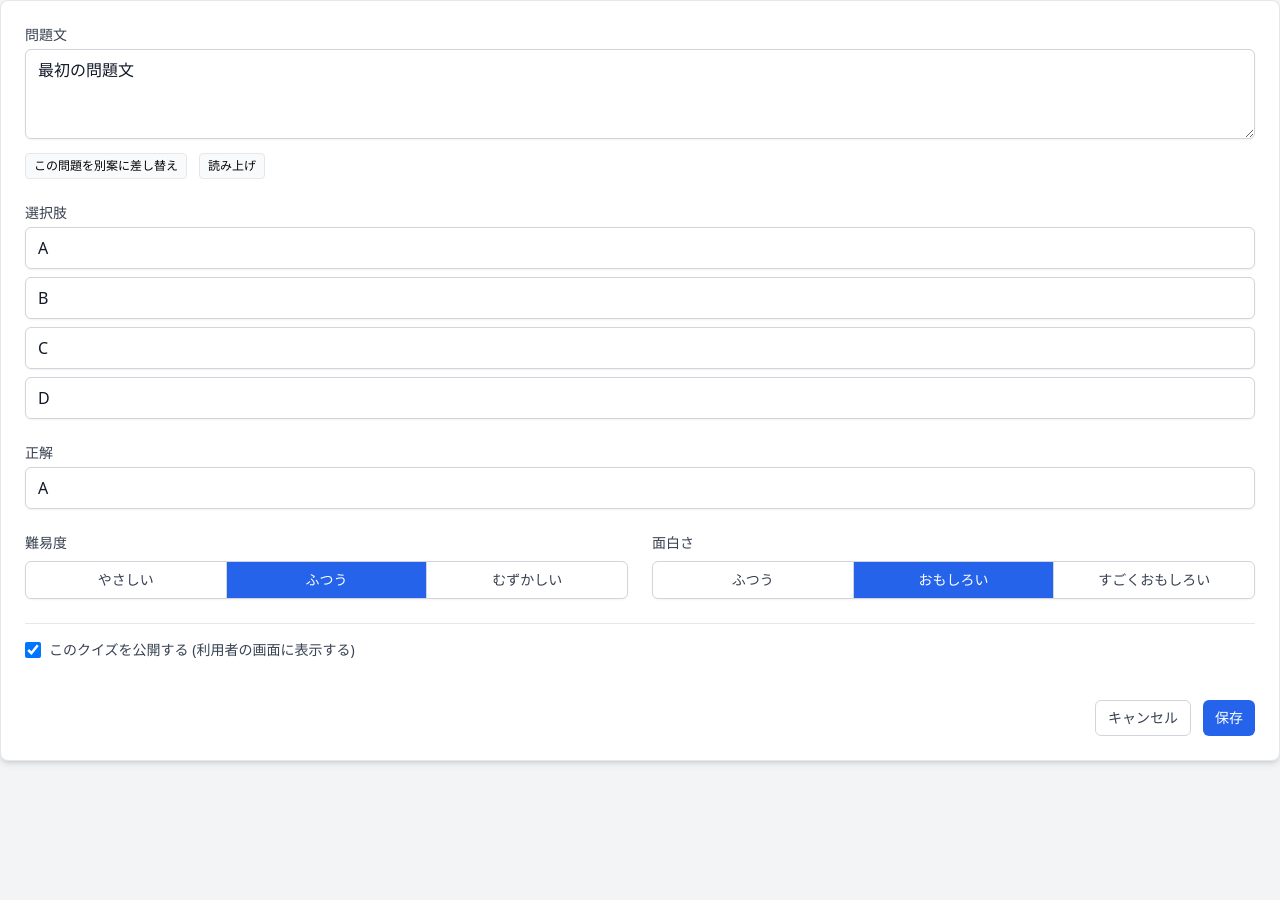
it: QuizForm › regenerates question and can restore original
Click the button "この問題を別案に差し替え". click: (106, 166)
box: [25,153,187,179]
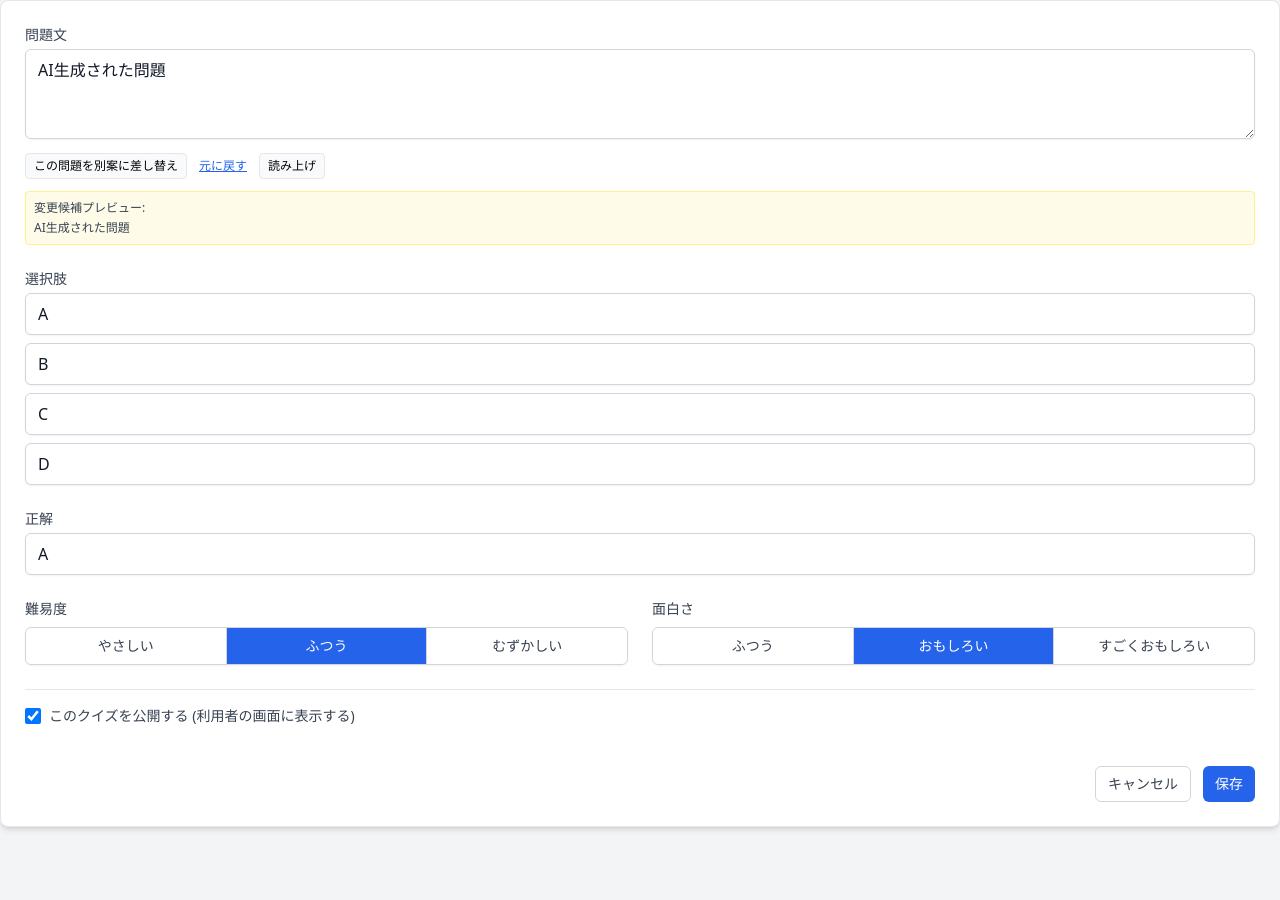
Result: the text box "AI生成された問題" is shown at [25,49,1255,139]
Click the button "元に戻す". click: (223, 166)
box: [199,158,247,174]
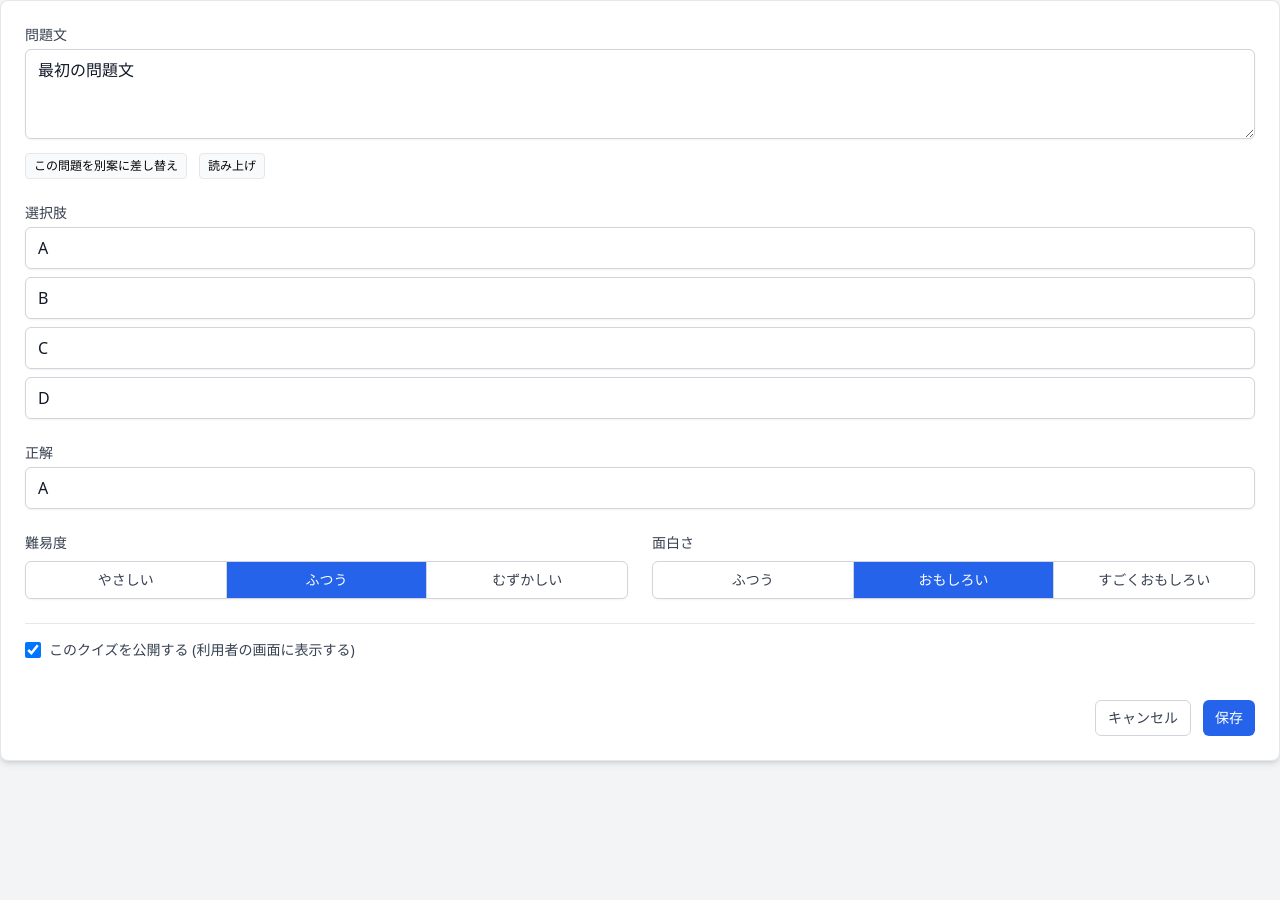
Result: the text box labelled "問題文" holds "最初の問題文" at [25,49,1255,139]
